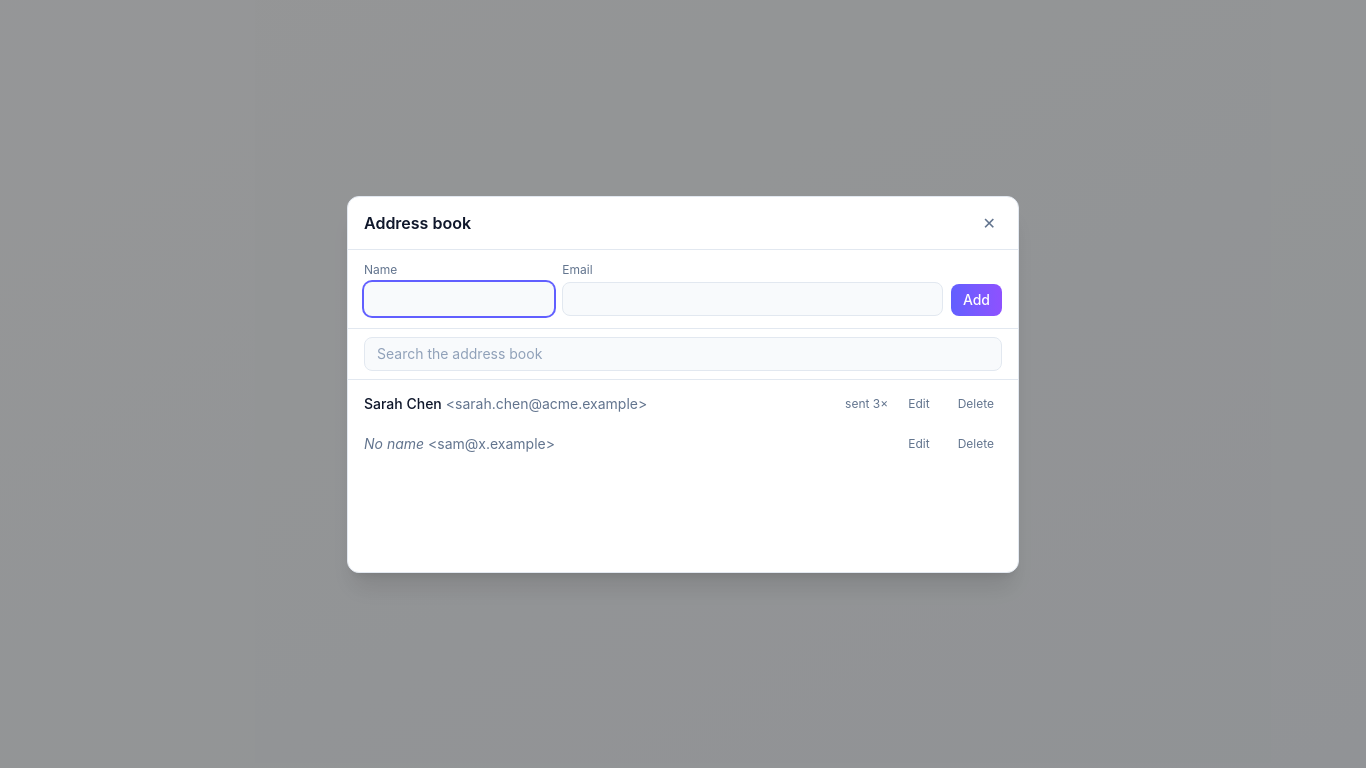
Scenario: AddressBookDialog › filters by name or address
Check: the list named "Contacts" is shown, box [348,384,1018,464]
Type "CHEN" into the search field labelled "Search the address book".
click(683, 354); type("CHEN")  # box [364,336,1002,370]
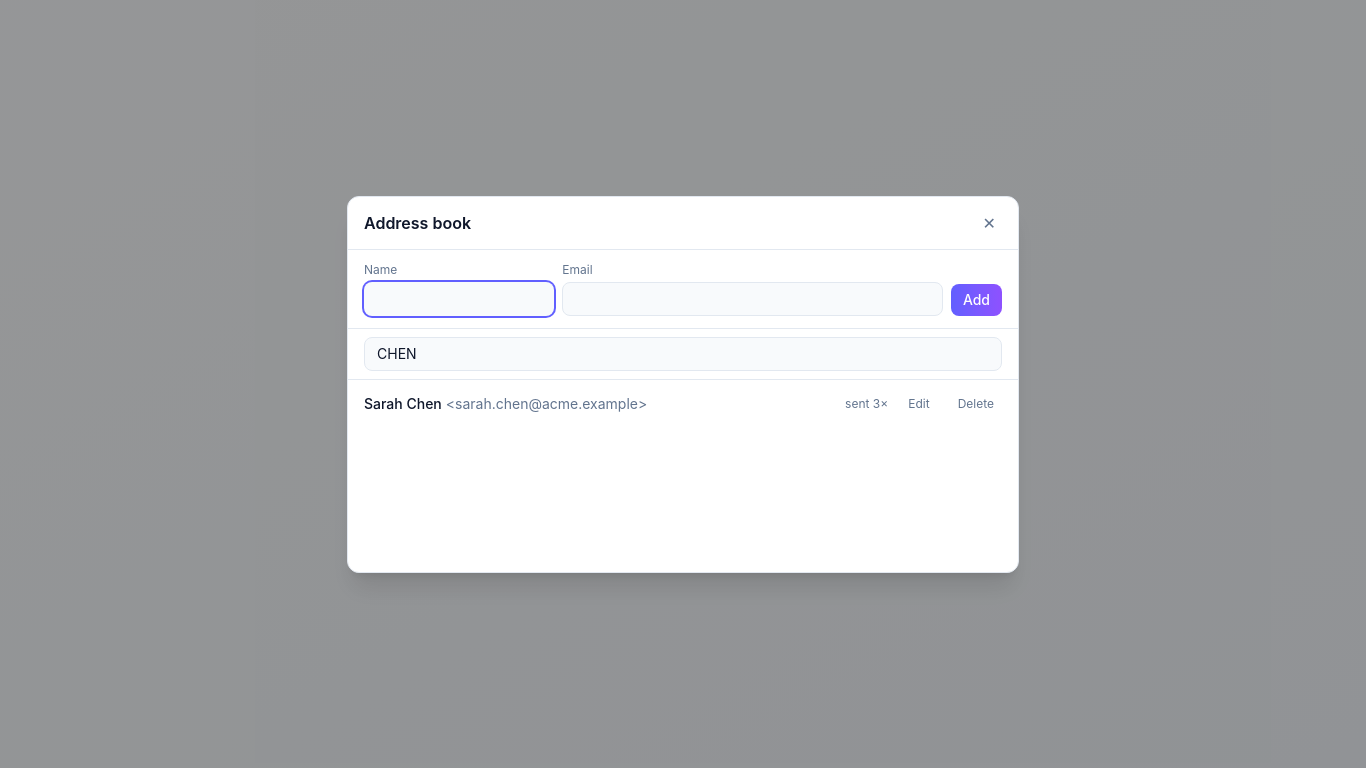
Check: the number of list items is 1, box [348,384,1018,424]
Replace the text in the search field named "Search the address book" with "x.example" at (683, 354), box [364,336,1002,370]
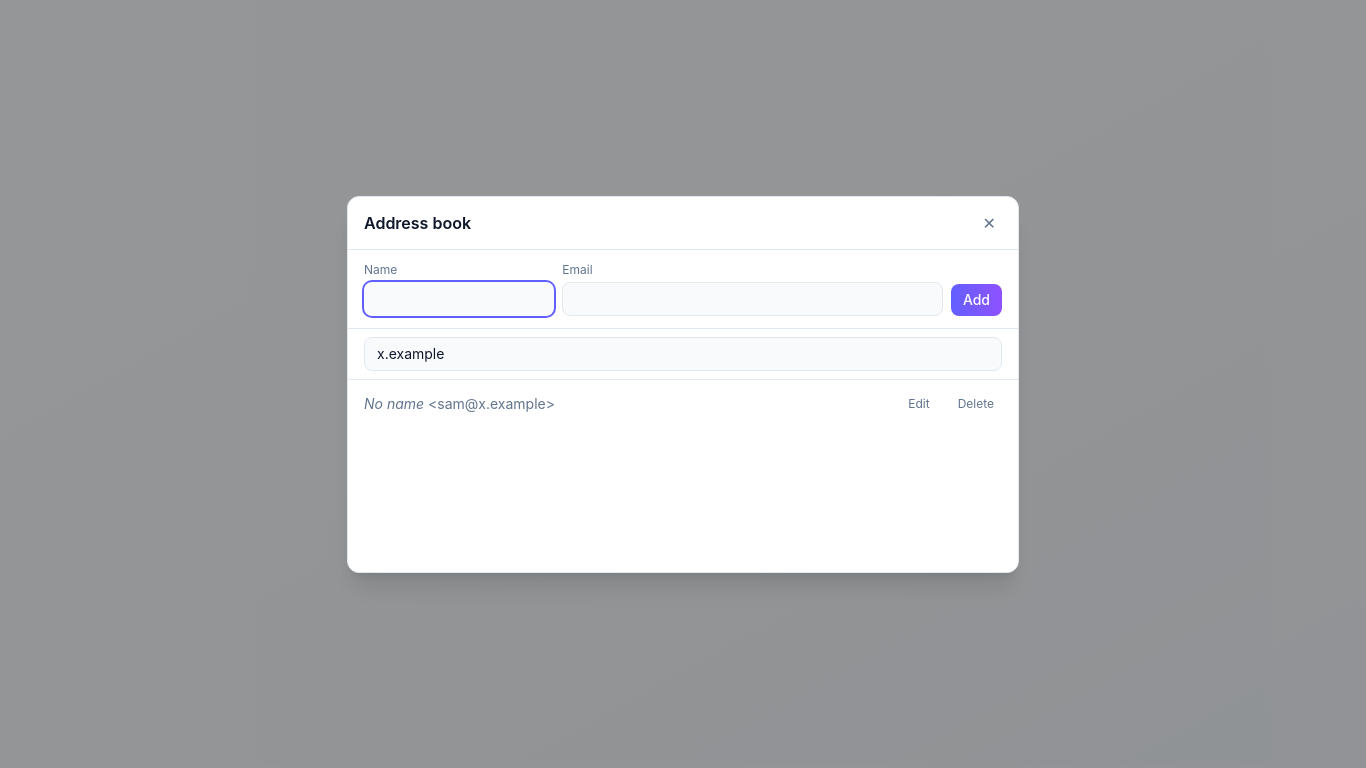
Check: the list item shows "sam@x.example", box [437,394,546,412]
Replace the text in the search field named "Search the address book" with "zzz" at (683, 354), box [364,336,1002,370]
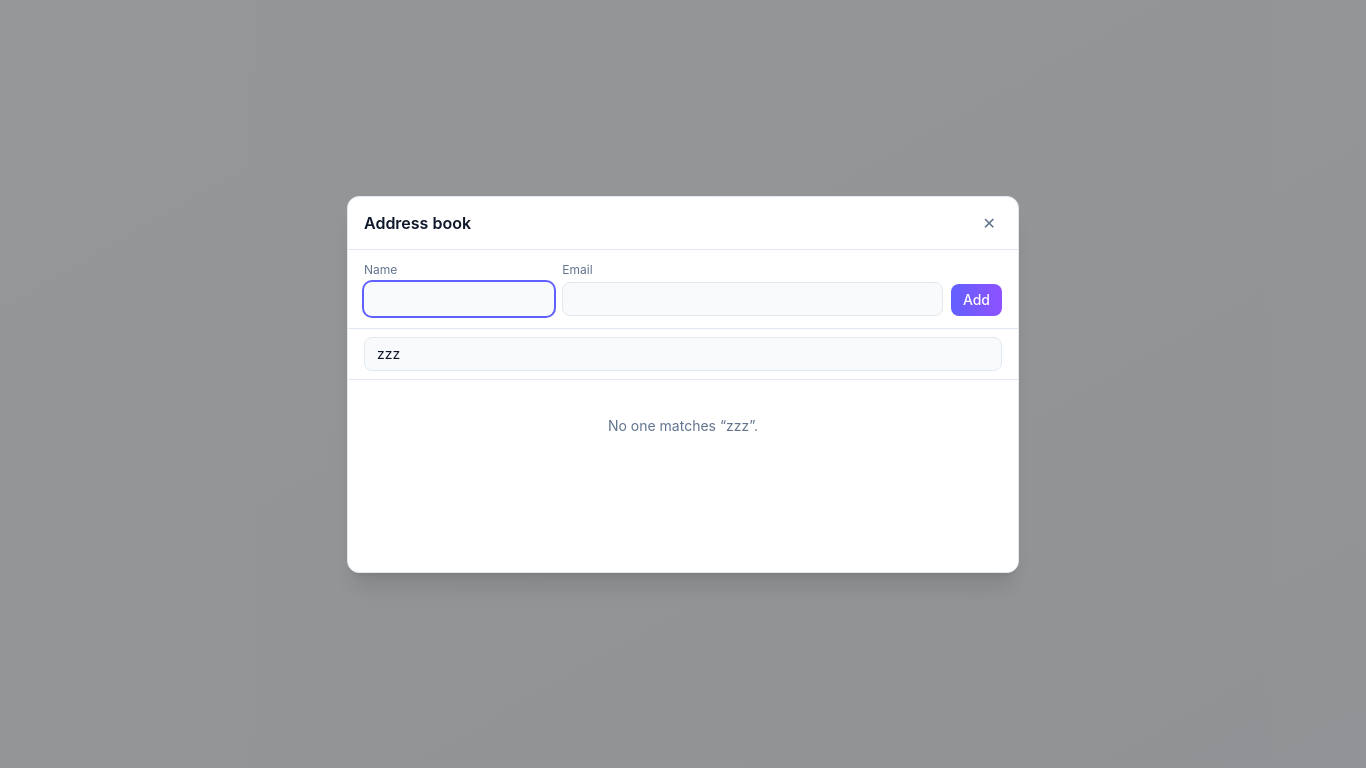
Check: the text "No one matches “zzz”." is shown, box [608,416,758,434]
